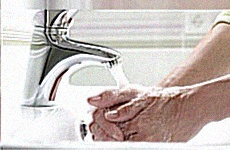washing hand: (54, 20, 215, 143)
